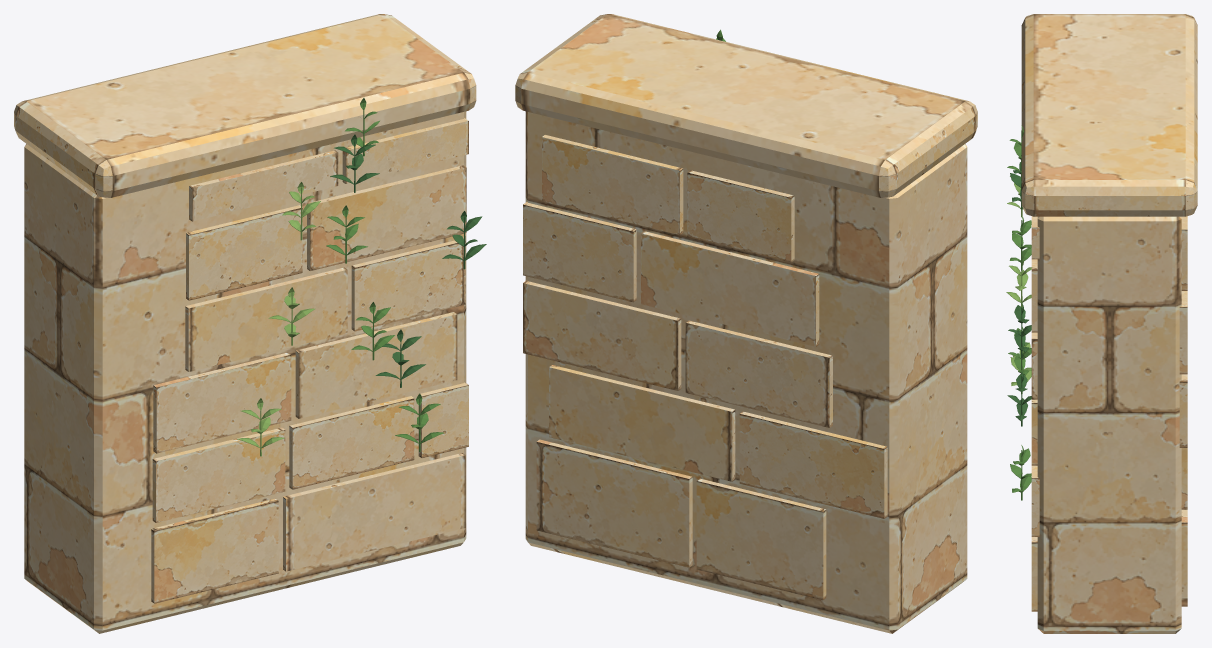
The picture shows the model from 3 angles, left to right: view 1: azimuth 30°, elevation 25°; view 2: azimuth 150°, elevation 25°; view 3: azimuth 270°, elevation 25°; orthographic projection. The views are drawn at different scales.
Visible parts, largest first — view 1: seaside_stone, house_paint; view 2: seaside_stone; view 3: seaside_stone, house_paint.
Boxes of the visible parts, x1,y1,x2,y2 form: seaside_stone: [14, 14, 476, 633]; house_paint: [237, 98, 486, 456]; seaside_stone: [515, 14, 977, 633]; seaside_stone: [1021, 14, 1197, 633]; house_paint: [1006, 125, 1031, 500].
Size of the model in its own units: 1.06 by 1.26 by 0.4789.
Materials: 2 (2 with a texture image).
